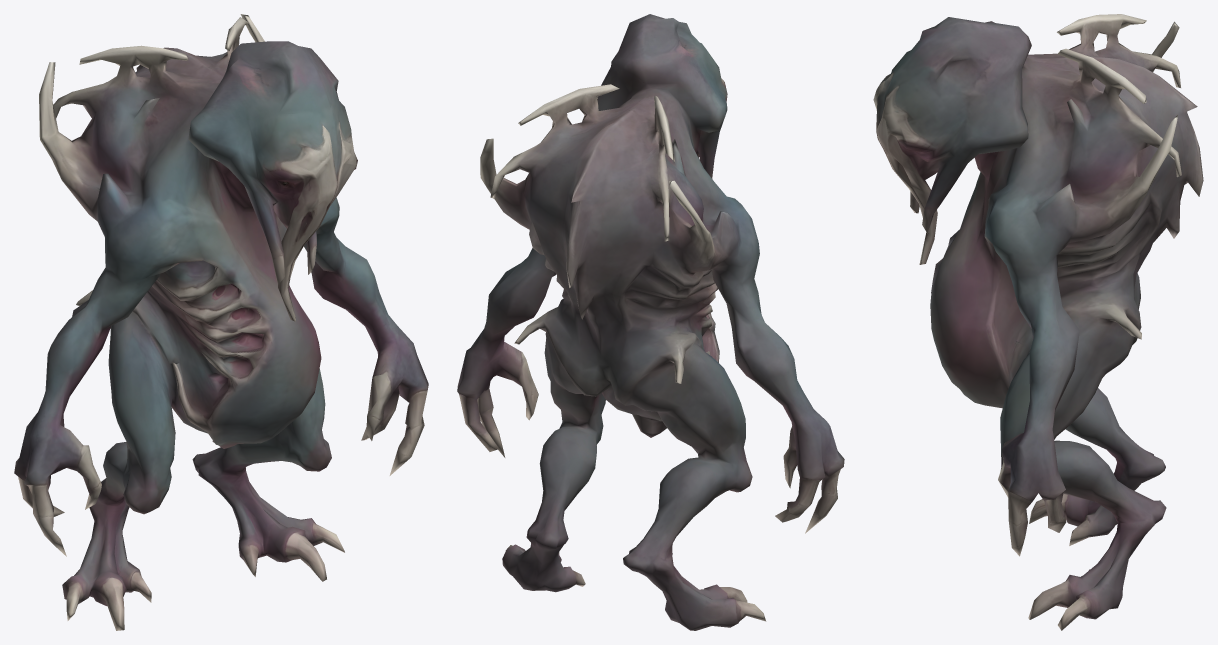
Rendered from CHR_PLAYER_01_05_04_v001_RAW.glb.
3 renders of one model, left to right at view 1: azimuth 30°, elevation 25°; view 2: azimuth 150°, elevation 25°; view 3: azimuth 270°, elevation 25°, orthographic. The views are drawn at different scales.
Visible parts, largest first — view 1: tripo_node_9275b727-1e2c-42be-bcf3-c34a5d0abe3e; view 2: tripo_node_9275b727-1e2c-42be-bcf3-c34a5d0abe3e; view 3: tripo_node_9275b727-1e2c-42be-bcf3-c34a5d0abe3e.
Boxes of the visible parts, left/top/right/bottom form: tripo_node_9275b727-1e2c-42be-bcf3-c34a5d0abe3e: left=14, top=14, right=428, bottom=630; tripo_node_9275b727-1e2c-42be-bcf3-c34a5d0abe3e: left=457, top=14, right=844, bottom=630; tripo_node_9275b727-1e2c-42be-bcf3-c34a5d0abe3e: left=873, top=14, right=1203, bottom=630.
Bounding box in the file's own units: 0.722 × 0.9818 × 0.5203.
Materials: 1 (1 with a texture image).
